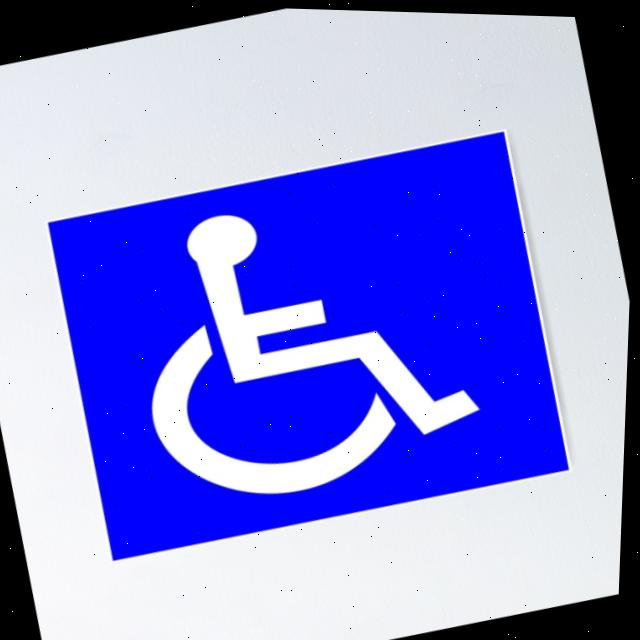symbol_of_access: (100, 153, 514, 530)
